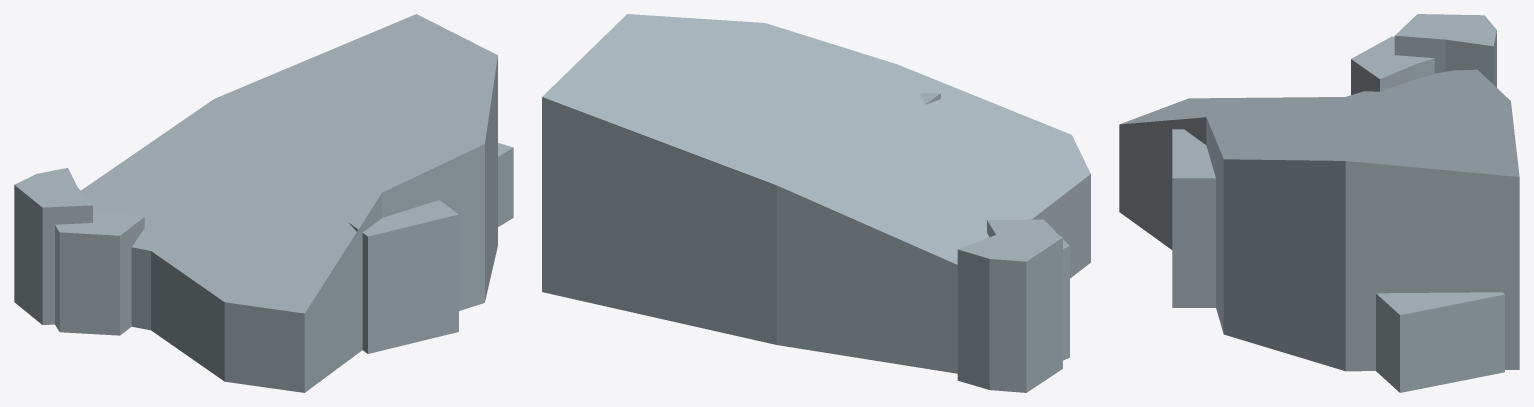
File: Mountain_04.fbx
The picture shows the model from 3 angles, left to right: view 1: azimuth 30°, elevation 25°; view 2: azimuth 150°, elevation 25°; view 3: azimuth 270°, elevation 25°; orthographic projection. The views are drawn at different scales.
Visible parts, largest first — view 1: Cylinder.012; view 2: Cylinder.012; view 3: Cylinder.012.
Boxes of the visible parts, box(x1,y1,x2,y2) form: Cylinder.012: box(14, 14, 513, 392); Cylinder.012: box(542, 14, 1090, 392); Cylinder.012: box(1119, 14, 1519, 392).
Bounding box in the file's own units: 8.25 × 3.24 × 5.6.
